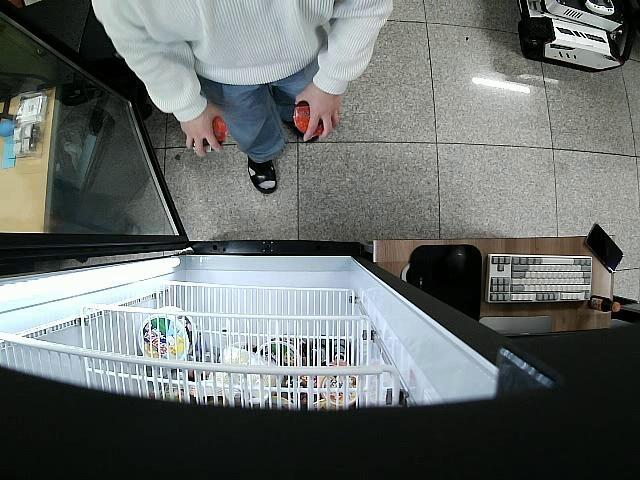02_shinRamen_S: (190, 114, 226, 155), (293, 101, 325, 137)
